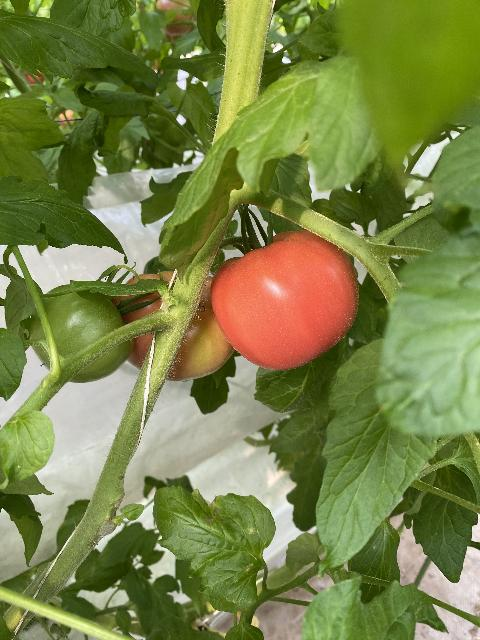b_fully_ripened: (209, 230, 360, 371)
b_green: (28, 283, 134, 383)
b_half_ripened: (112, 269, 236, 382)
